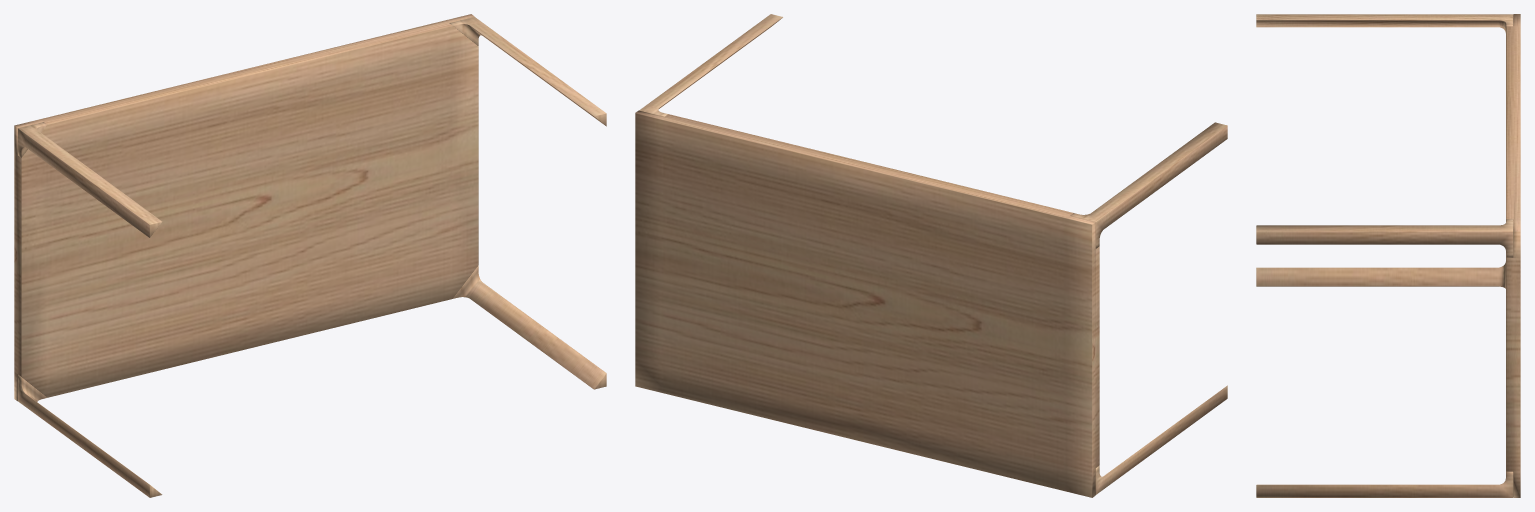
The model's file is table.fbx.
3 renders of one model, left to right at view 1: azimuth 30°, elevation 25°; view 2: azimuth 150°, elevation 25°; view 3: azimuth 270°, elevation 25°, orthographic. The views are drawn at different scales.
Parts seen in each view (by area): view 1: desalto_bend_in_obj; view 2: desalto_bend_in_obj; view 3: desalto_bend_in_obj.
Part boxes in pixels (left/top/right/bottom): desalto_bend_in_obj: left=14, top=14, right=606, bottom=497; desalto_bend_in_obj: left=635, top=14, right=1227, bottom=497; desalto_bend_in_obj: left=1256, top=14, right=1520, bottom=497.
Bounding box in the file's own units: 0.014 × 0.008 × 0.0072.
